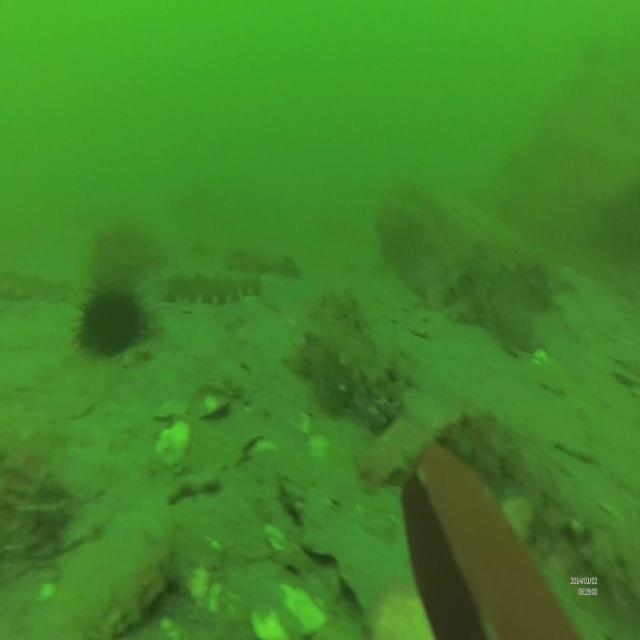echinus: (68, 286, 156, 359)
holothurian: (160, 267, 265, 308)
